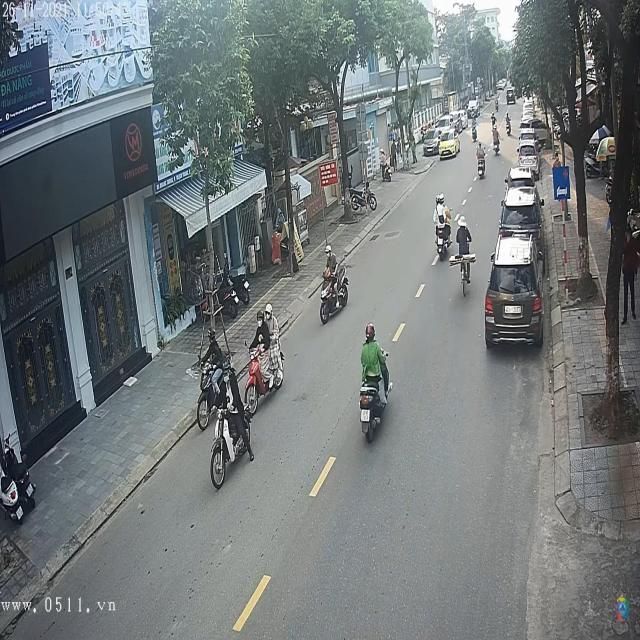car: (485, 237, 543, 348), (501, 187, 543, 235), (505, 169, 537, 195), (437, 130, 459, 160), (517, 146, 537, 170)
motorcycle: (208, 406, 255, 492), (245, 343, 287, 414), (359, 374, 389, 444), (320, 264, 348, 323), (436, 220, 452, 261), (476, 148, 485, 178)
